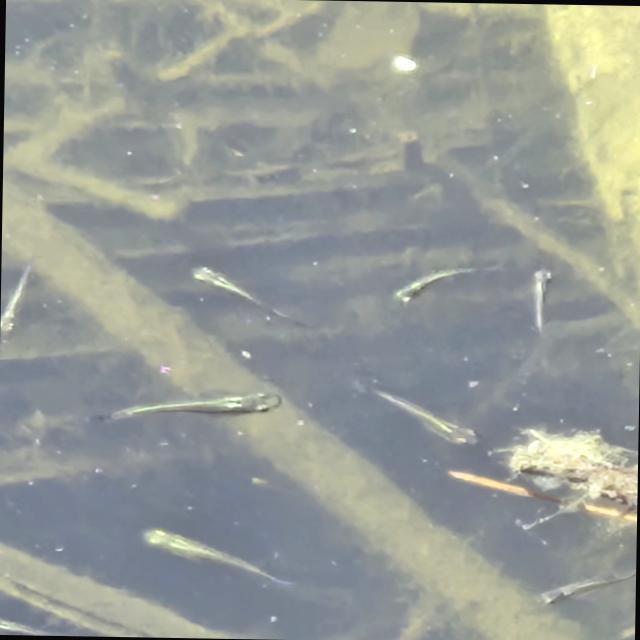Sivrisinek Baligi: (123, 494, 318, 607), (162, 246, 314, 342), (85, 369, 284, 441), (356, 370, 485, 456), (385, 236, 488, 312), (515, 252, 576, 339)
